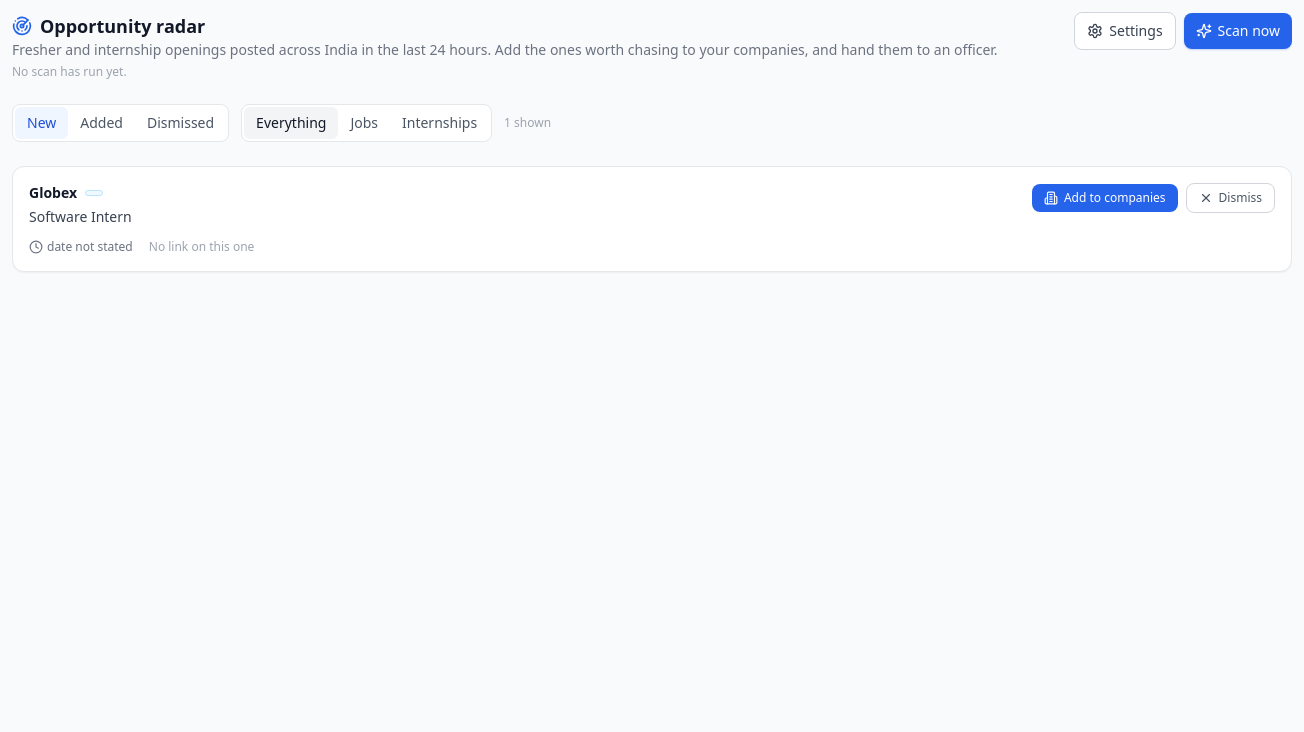
running a scan › distinguishes "nothing new" from "nothing at all"
expect the heading "Globex" is shown: met, box 29,183 -> 77,203
Click the button "Scan now" at coordinates (1238, 31), box 1184,13 -> 1292,49
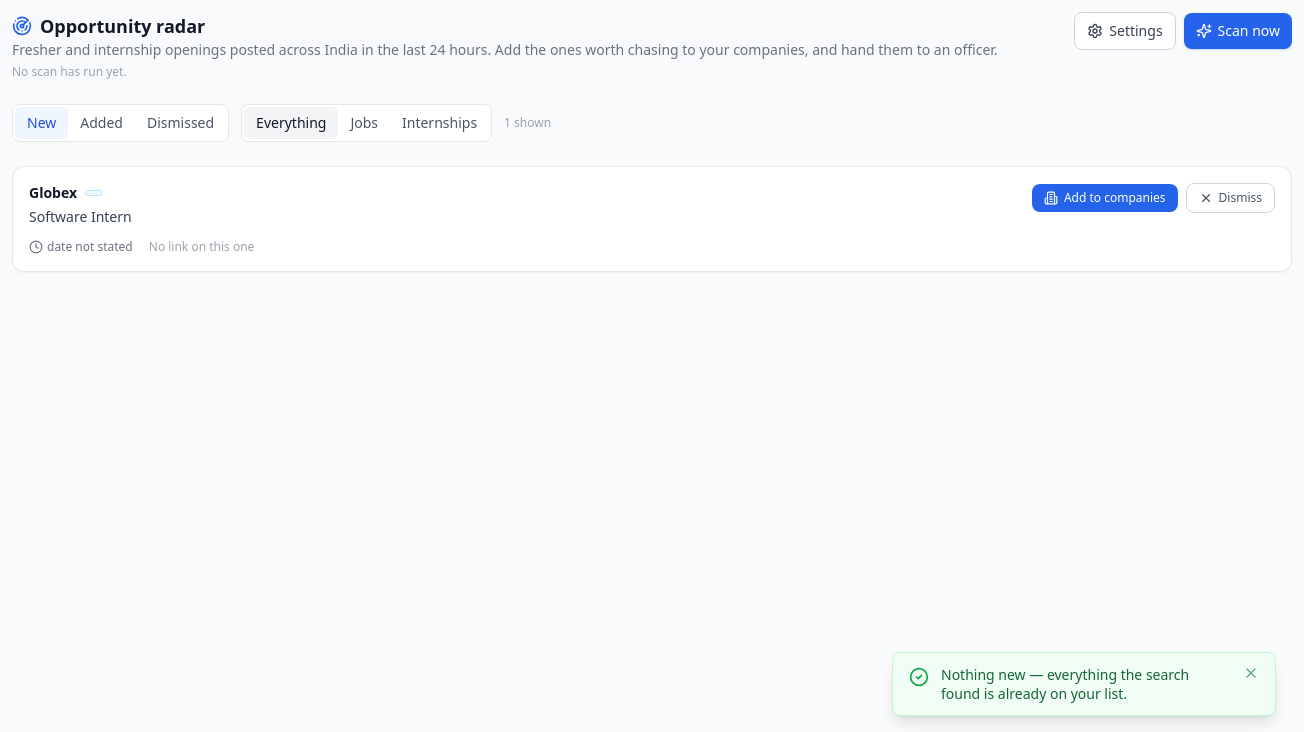
expect the text "already on your list" is shown: met, box 941,664 -> 1189,703
